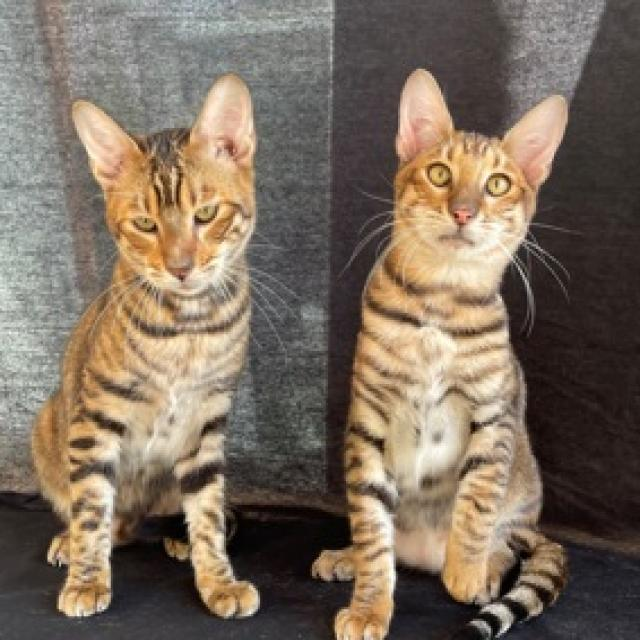Toyger: (305, 61, 574, 640), (26, 70, 269, 625)
